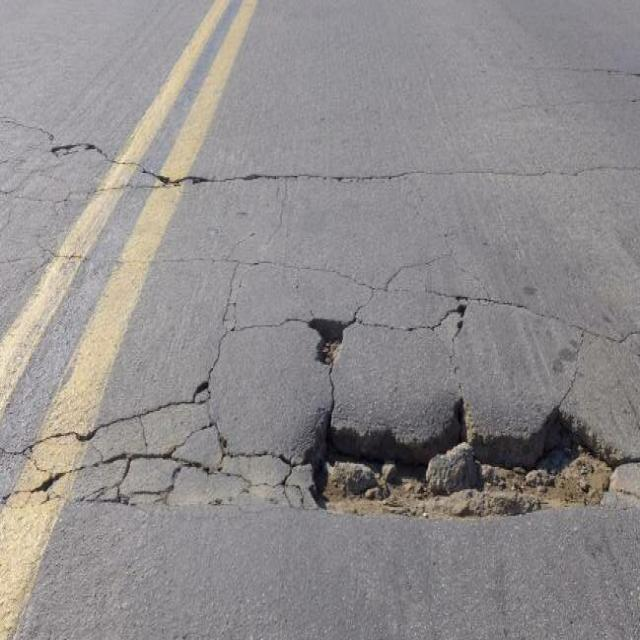Pothole: (246, 284, 634, 615)
